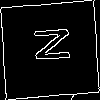N: (25, 24, 70, 65)
